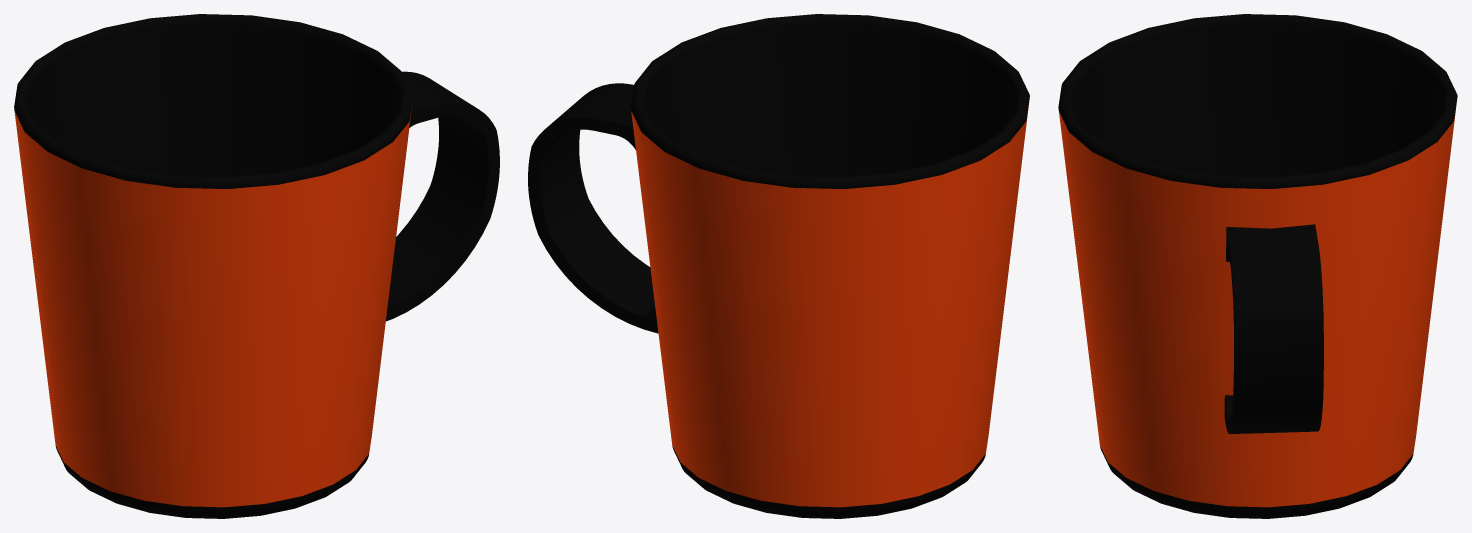
Rendered from mug_13_origin_gt_7.dae.
The picture shows the model from 3 angles, left to right: view 1: azimuth 30°, elevation 25°; view 2: azimuth 150°, elevation 25°; view 3: azimuth 270°, elevation 25°; orthographic projection.
Parts seen in each view (by area): view 1: group_0 (×3), Group_1525; view 2: group_0 (×3), Group_1525; view 3: group_0 (×3), Group_1525.
Boxes of the visible parts, x1,y1,x2,y2 form: group_0 (×3): (14,14,413,518); Group_1525: (386,71,499,321); group_0 (×3): (630,14,1029,518); Group_1525: (528,83,658,333); group_0 (×3): (1058,14,1457,518); Group_1525: (1224,224,1323,433).
Bounding box in the file's own units: 4.56 × 3.52 × 3.54.
